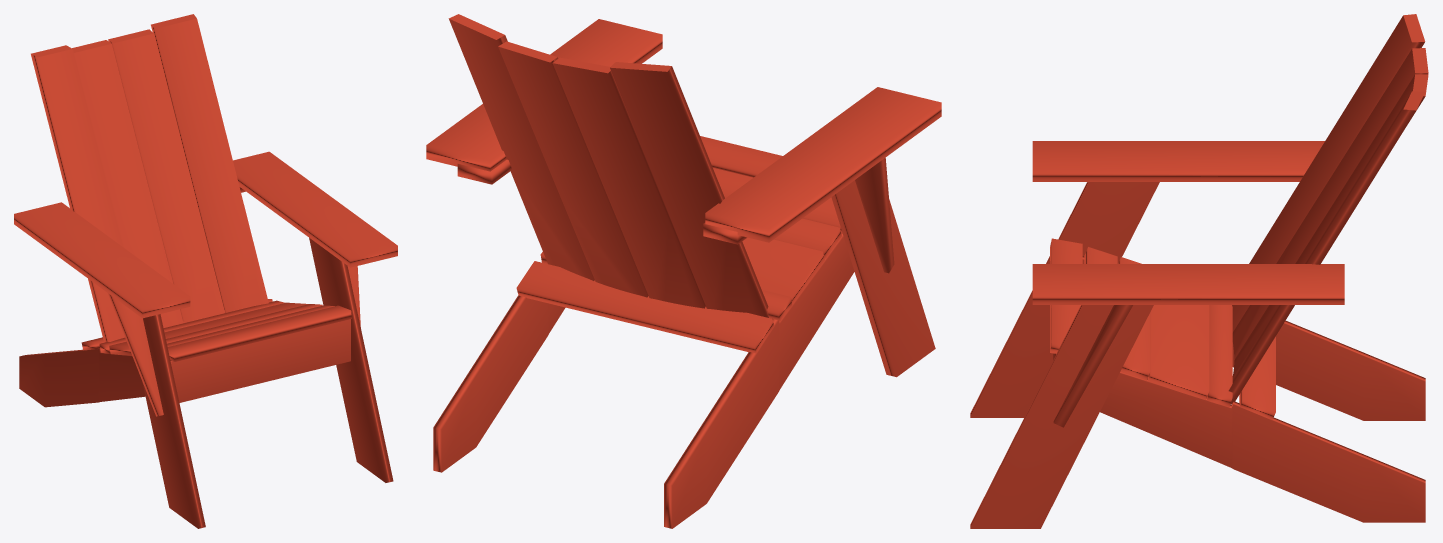
The model's file is 4484dad6-f0a4-4f64-8fe8-f5bc75504433.glb.
3 views of the same model, side by side, from view 1: azimuth 30°, elevation 25°; view 2: azimuth 150°, elevation 25°; view 3: azimuth 270°, elevation 25° (orthographic). The views are drawn at different scales.
Visible parts, largest first — view 1: AdirondackChair.001; view 2: AdirondackChair.001; view 3: AdirondackChair.001.
Boxes of the visible parts, x1=… form: AdirondackChair.001: x1=14, y1=14, x2=397, y2=528; AdirondackChair.001: x1=426, y1=14, x2=941, y2=528; AdirondackChair.001: x1=970, y1=14, x2=1428, y2=528.
Size of what is drawn, in the model's own units: 1.07 by 1.35 by 1.37.
1 material, 1 textured.
